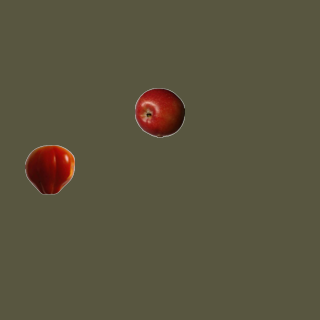Apple Braeburn: (134, 87, 184, 137)
Tomato 1: (24, 144, 74, 194)
